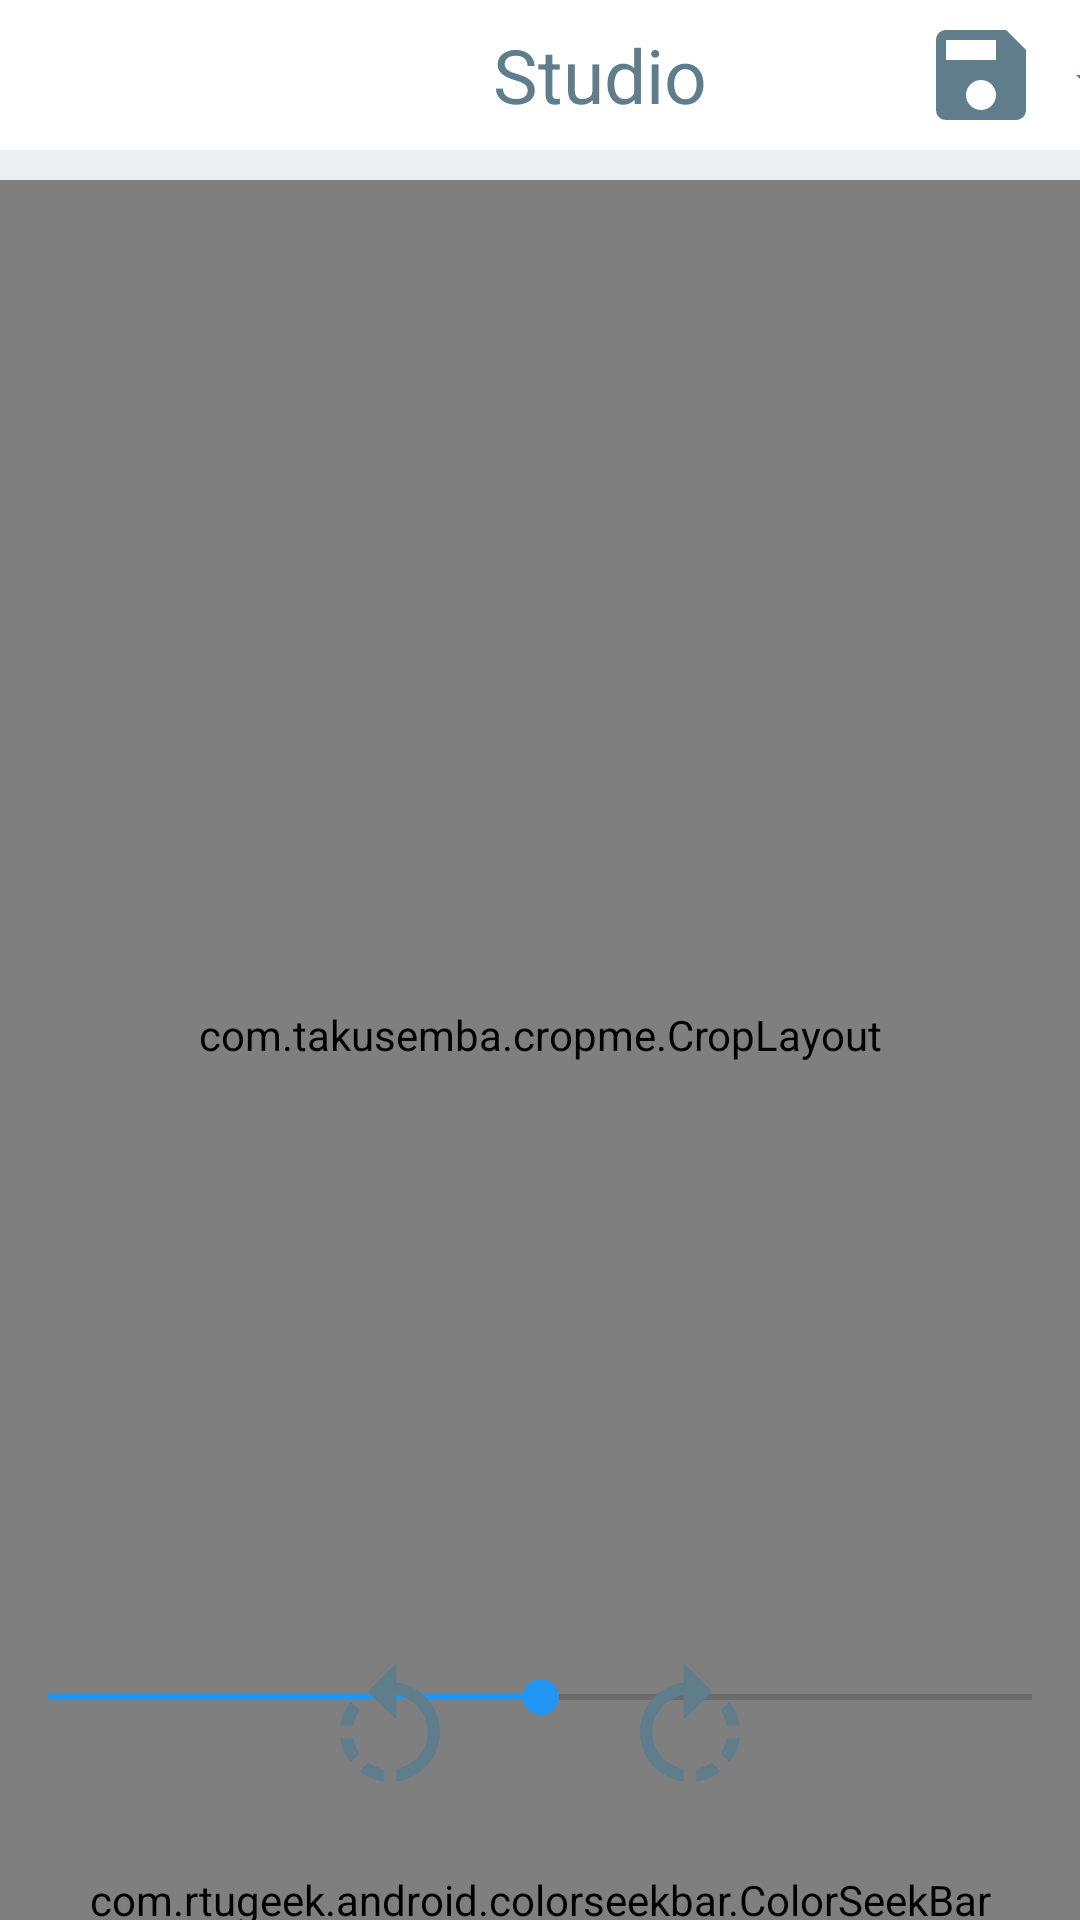

Icon click points for this 1080w x 1920h phone screenshot, format (x=x, y=y):
rotate image left: (x=390, y=1722)
rotate image right: (x=689, y=1722)
save image: (x=981, y=75)
